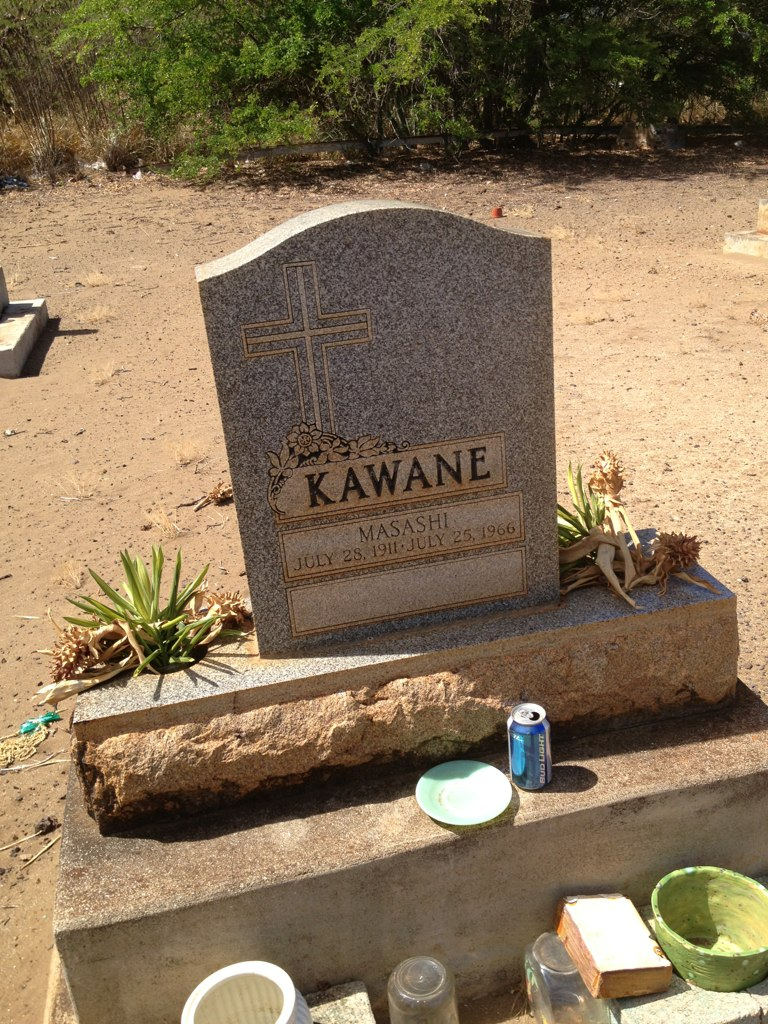upright: (42, 186, 755, 1002)
